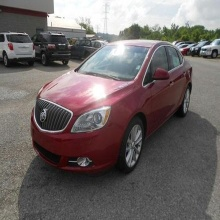no damage: (30, 39, 194, 176), (2, 30, 72, 69)
